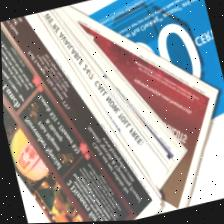paper: (0, 0, 159, 224), (70, 0, 224, 216)
